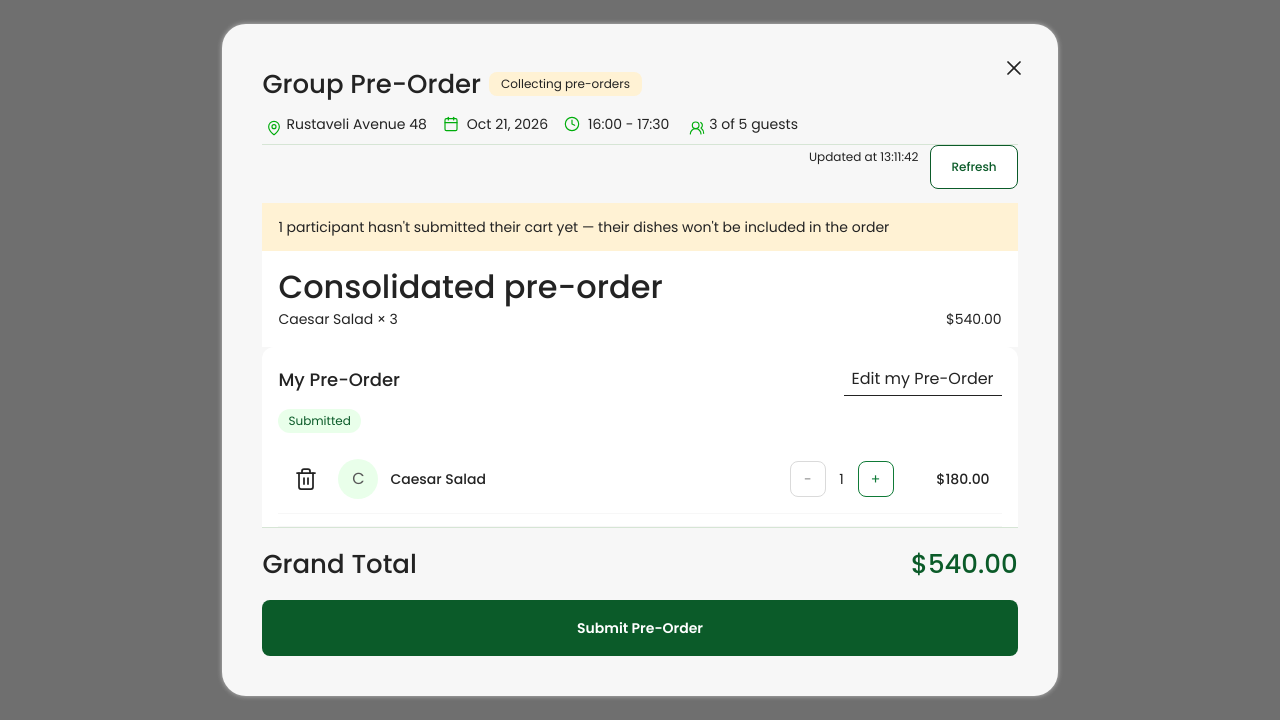
Scenario: Рівень 2 · сторінка Owner Review › Submit Pre-Order › після успіху: «Sent to Restaurant», кнопки Submit більше немає
Click the button "Submit Pre-Order": (640, 628) 262,600 -> 1018,656
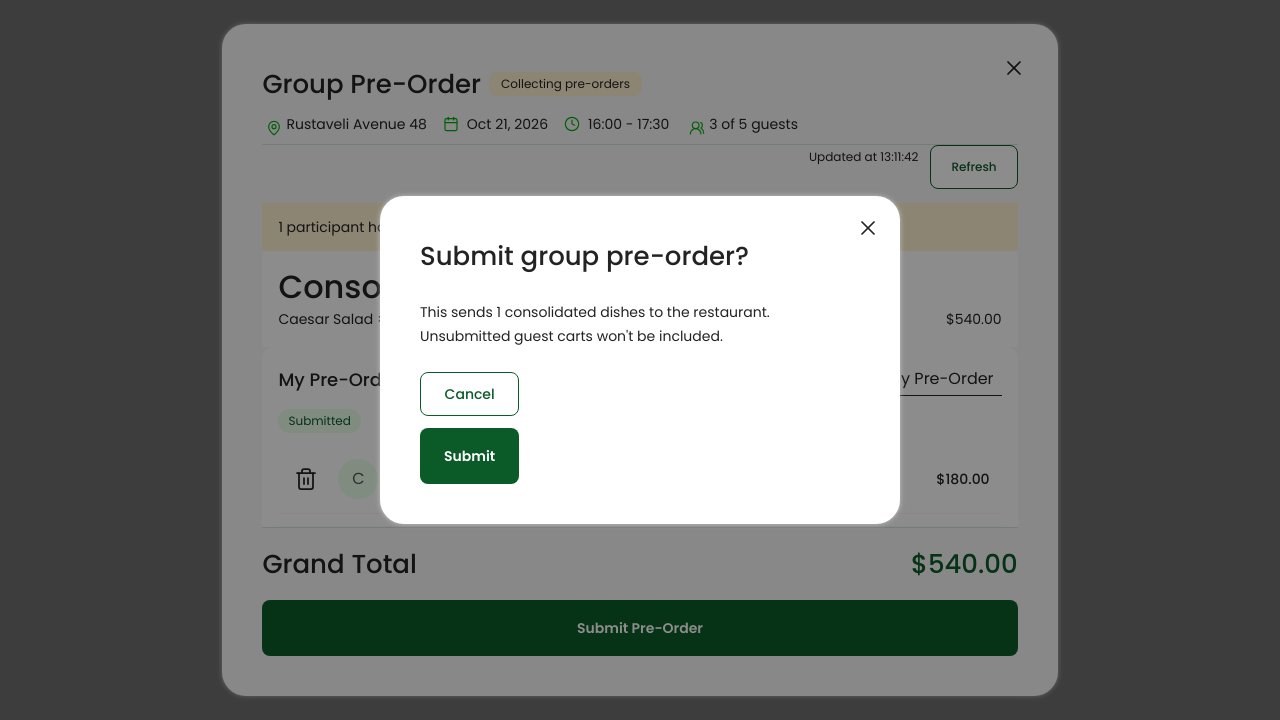
Click the button "Submit": (470, 456) 420,428 -> 519,484
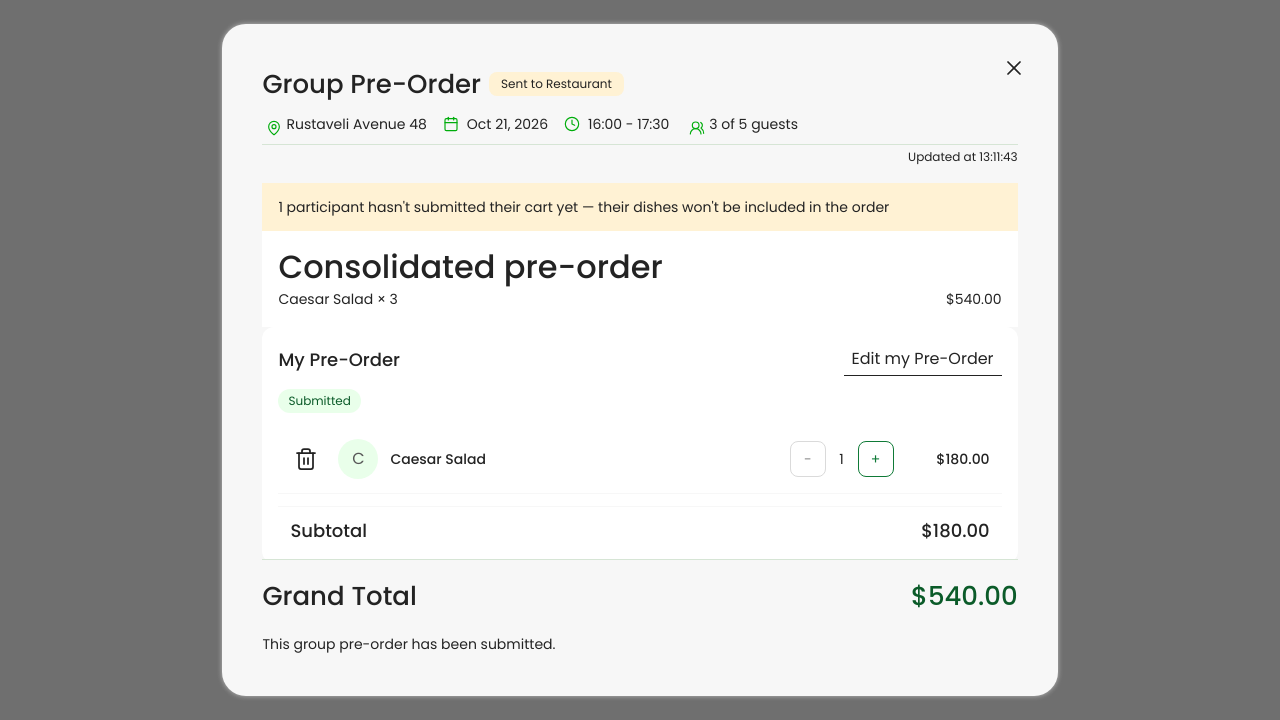
Result: the text "Sent to Restaurant" is shown at 489,72 -> 624,96
